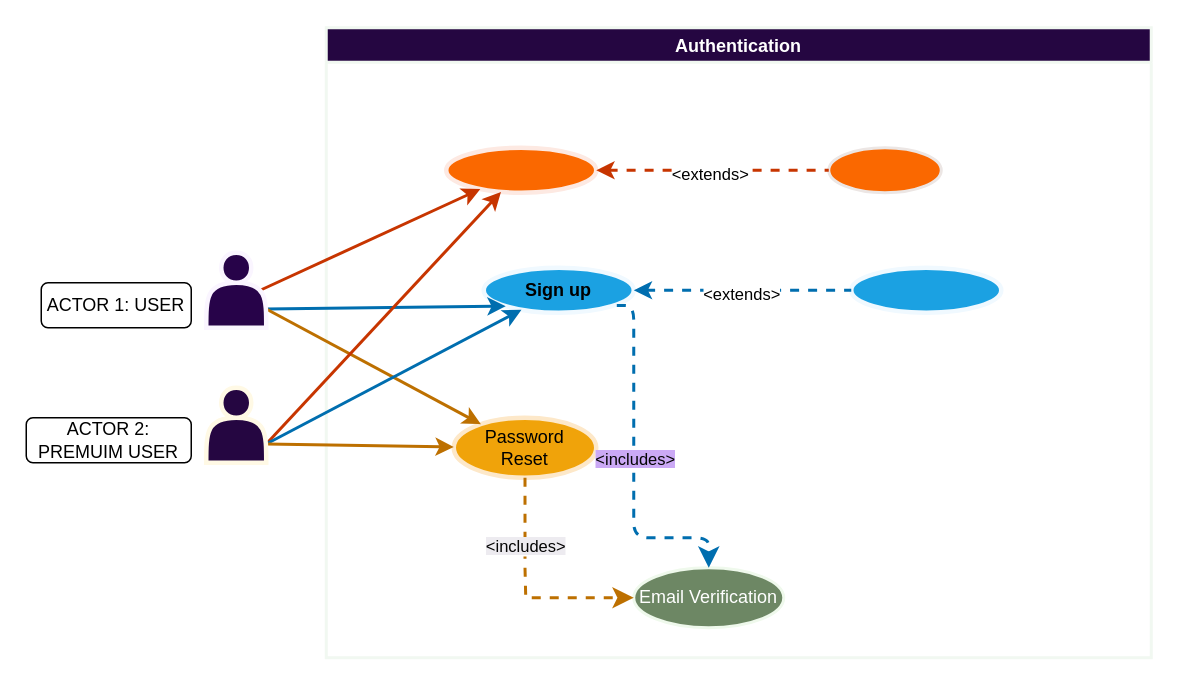
This 1179x684 diagram has some shape labels left out. The box of each missing label's shape, as (x1, y1, x2, y2) in pixels:
Effect payement: (848, 265, 1003, 314)
Exception: (826, 146, 942, 194)
Log In: (443, 145, 598, 194)
